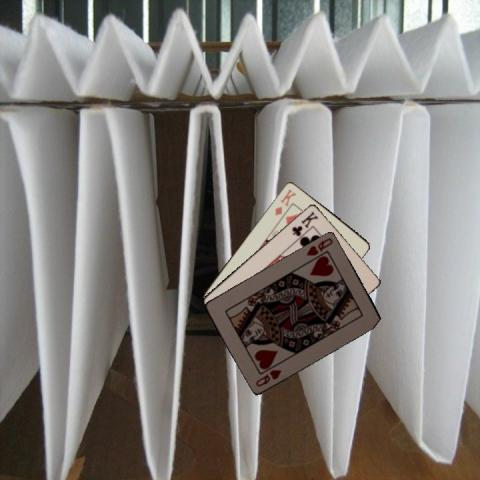Kc: (289, 209, 319, 237)
Kd: (272, 185, 297, 217)
Qh: (303, 235, 334, 257), (252, 366, 282, 388)
